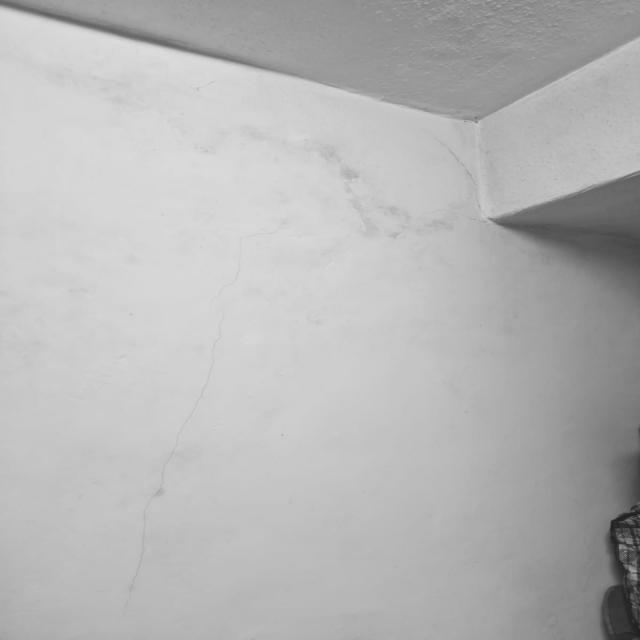stain marks: (243, 246, 640, 419), (0, 197, 183, 367), (318, 108, 481, 246), (154, 85, 326, 174), (0, 32, 164, 125)
